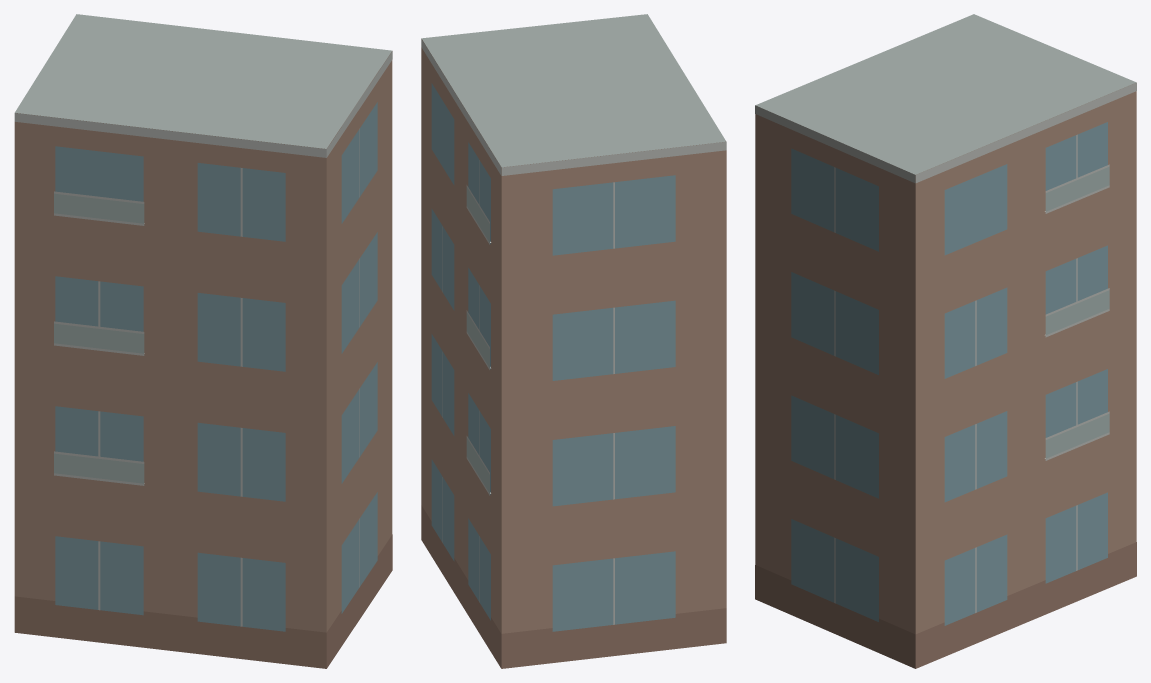
Rendered from survey-upis-32795685.glb.
The picture shows the model from 3 angles, left to right: view 1: azimuth 30°, elevation 25°; view 2: azimuth 150°, elevation 25°; view 3: azimuth 270°, elevation 25°; orthographic projection. The views are drawn at different scales.
Parts seen in each view (by area): view 1: survey-upis-32795685.tmp; view 2: survey-upis-32795685.tmp; view 3: survey-upis-32795685.tmp.
Boxes of the visible parts, x1,y1,x2,y2 form: survey-upis-32795685.tmp: (14,14,392,668); survey-upis-32795685.tmp: (421,14,726,668); survey-upis-32795685.tmp: (755,14,1136,668).
Bounding box in the file's own units: 9.82 × 14.05 × 9.84.
